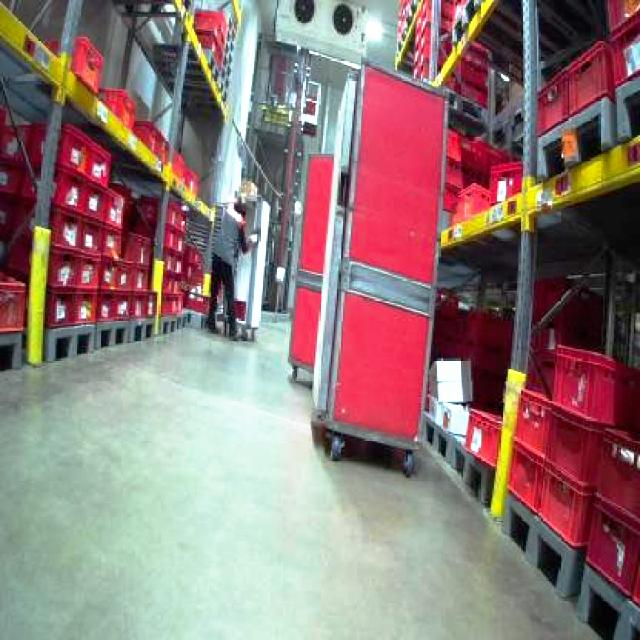ground: (0, 309, 637, 638)
pallet: (288, 0, 638, 638), (423, 343, 638, 638), (395, 0, 638, 248), (308, 60, 448, 475)
